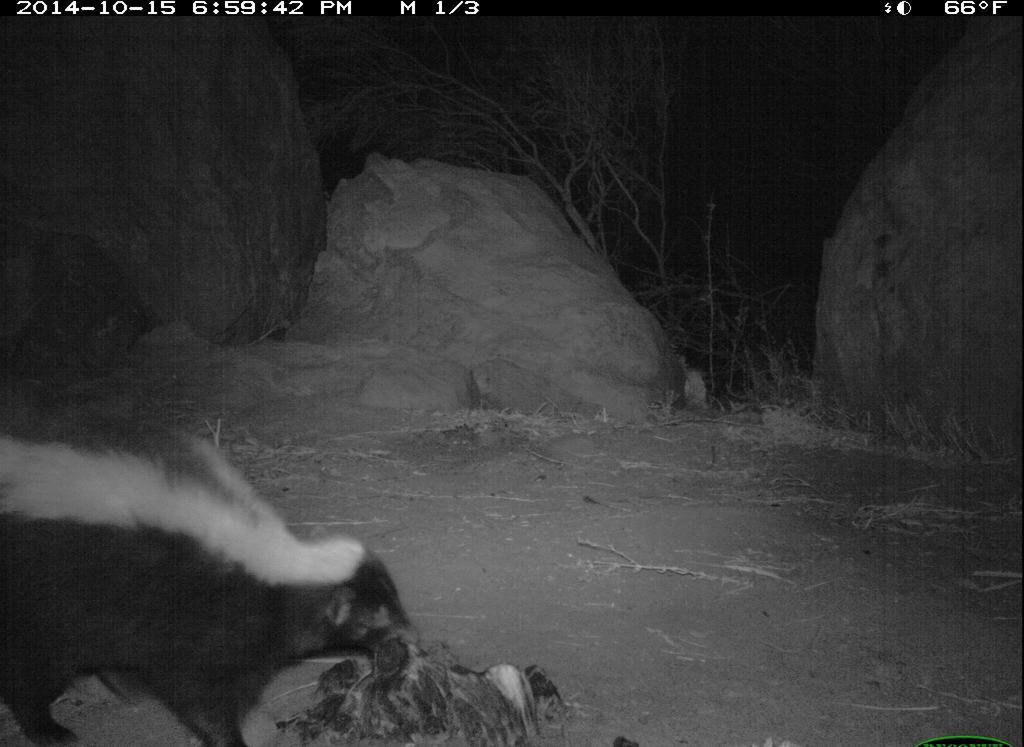skunk: (1, 406, 420, 747)
